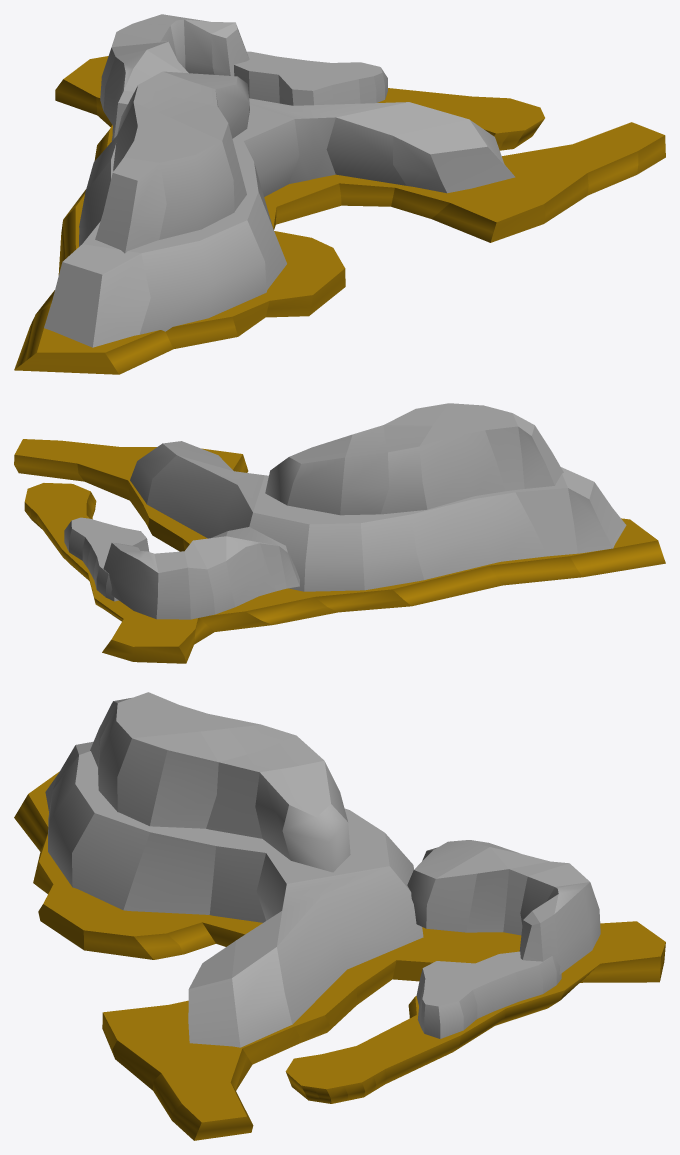
The model's file is montagne_haute.fbx.
The picture shows the model from 3 angles, top to bottom: view 1: azimuth 30°, elevation 25°; view 2: azimuth 150°, elevation 25°; view 3: azimuth 270°, elevation 25°; orthographic projection. The views are drawn at different scales.
Parts seen in each view (by area): view 1: pCube1, plateau_03:plateau_03, pCube2, pCube4, pCube3; view 2: pCube1, plateau_03:plateau_03, pCube2, pCube4, pCube3; view 3: pCube1, plateau_03:plateau_03, pCube2, pCube4, pCube3.
Part boxes in pixels (x1,y1,x2,y2): pCube1: (44,98,515,347); plateau_03:plateau_03: (14,56,665,374); pCube2: (95,71,249,253); pCube4: (100,14,249,140); pCube3: (234,51,387,105); pCube1: (130,441,626,591); plateau_03:plateau_03: (14,439,665,663); pCube2: (265,403,563,515); pCube4: (103,527,299,619); pCube3: (64,517,149,601); pCube1: (45,741,423,1047); plateau_03:plateau_03: (14,771,665,1140); pCube2: (90,692,350,872); pCube4: (407,840,600,974); pCube3: (416,951,561,1038).
Bounding box in the file's own units: 126 × 26.08 × 95.87.
